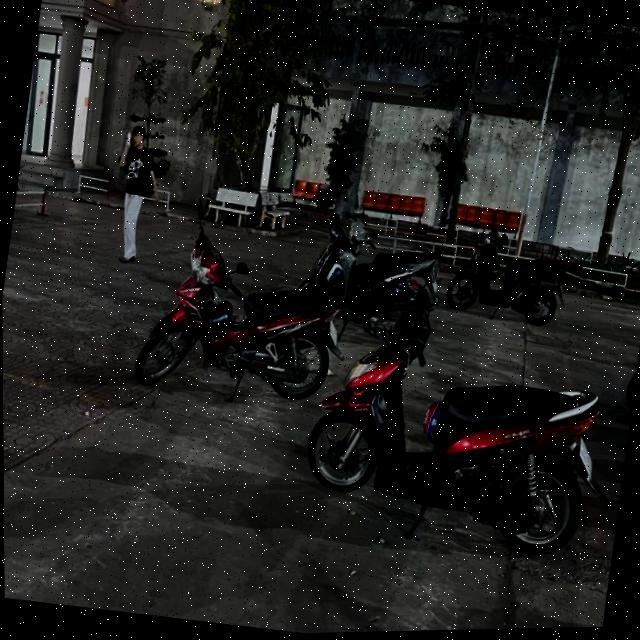motorcycle: (294, 328, 638, 575), (132, 216, 357, 417), (439, 217, 582, 332)
